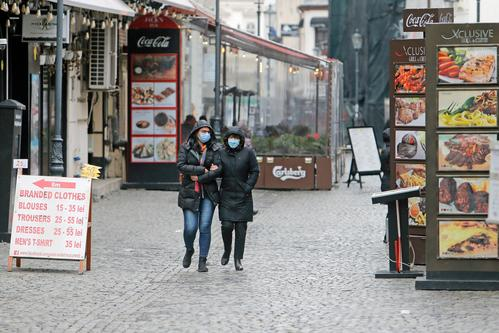mask: (198, 124, 211, 144), (227, 132, 241, 150)
